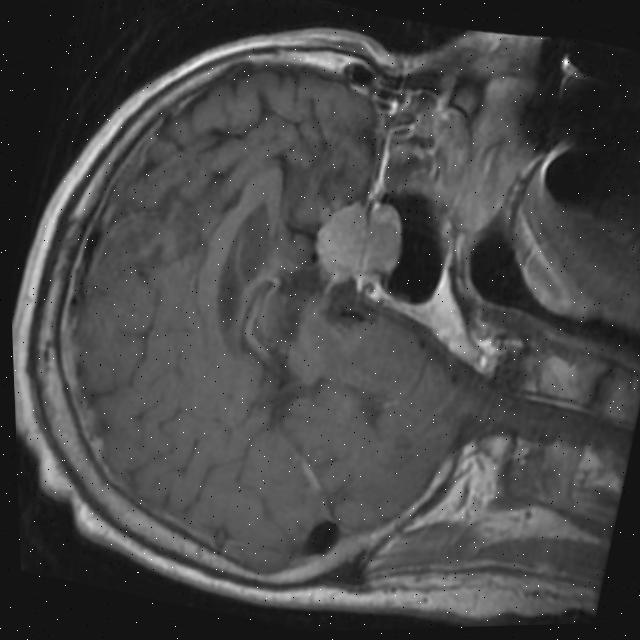Pituitary: (302, 186, 413, 296)
